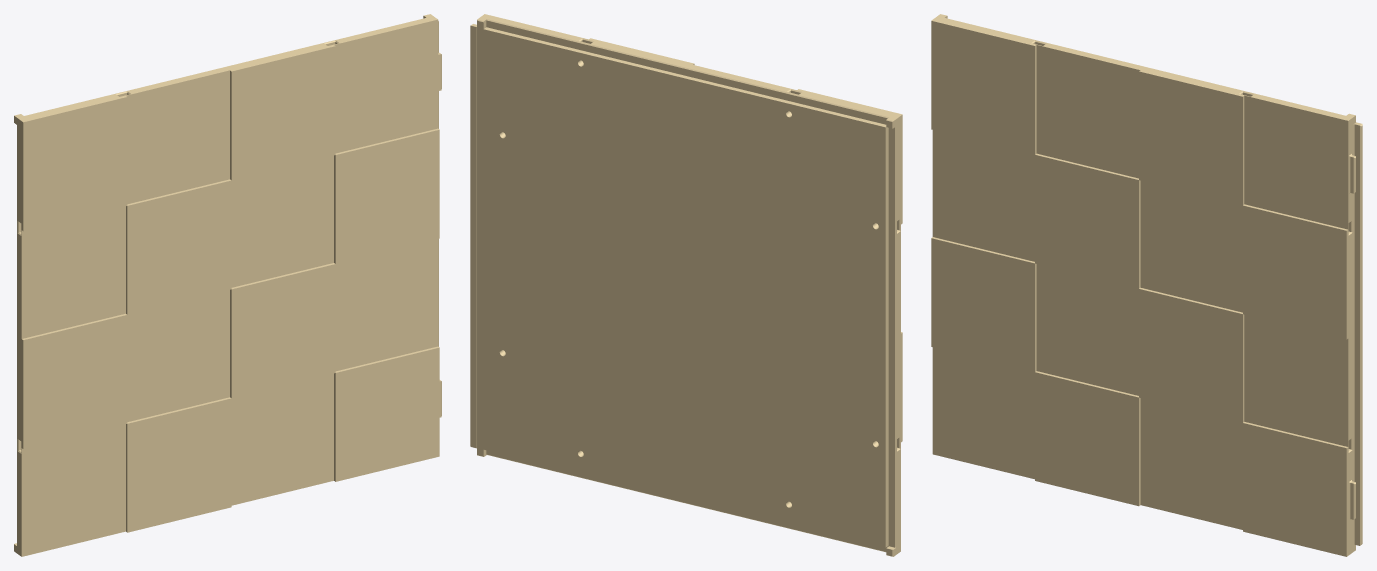
File: .quarter_nw_light_body.step.glb
3 renders of one model, left to right at view 1: azimuth 30°, elevation 25°; view 2: azimuth 150°, elevation 25°; view 3: azimuth 330°, elevation 25°, orthographic.
Parts seen in each view (by area): view 1: o1; view 2: o1; view 3: o1.
Part boxes in pixels (left/top/right/bottom): o1: left=14, top=14, right=441, bottom=556; o1: left=470, top=14, right=902, bottom=556; o1: left=931, top=14, right=1362, bottom=556.
Bounding box in the file's own units: 0.244 × 0.24 × 0.0096.
